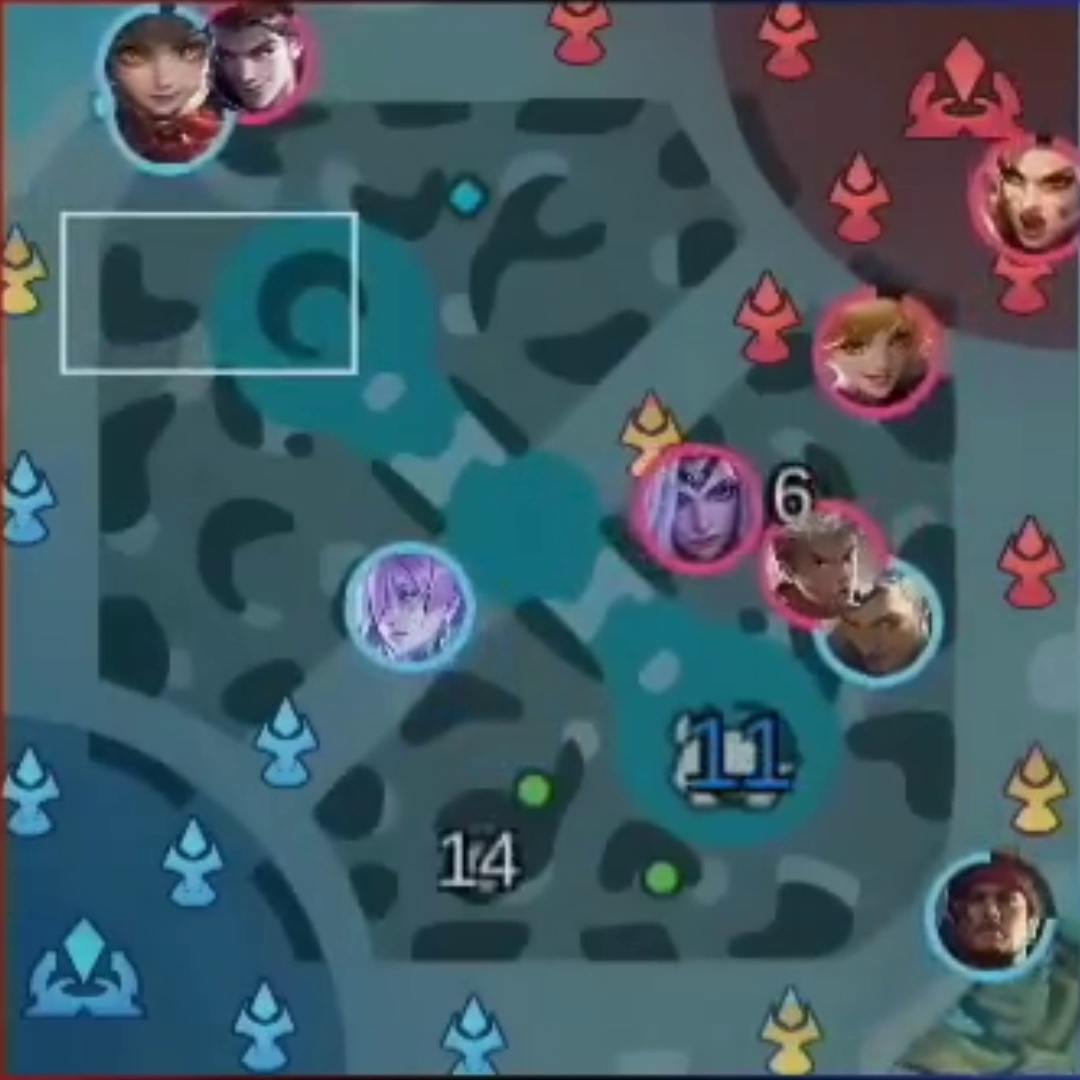Chou: (779, 520, 862, 608)
Claude: (218, 16, 289, 107)
Fanny: (834, 309, 920, 406)
Fredrinn: (842, 578, 925, 671)
Lapu-Lapu: (951, 868, 1035, 959)
Masha: (999, 146, 1077, 251)
Novaria: (364, 559, 451, 652)
Valentina: (655, 457, 737, 554)
Wanwan: (114, 22, 204, 104)
